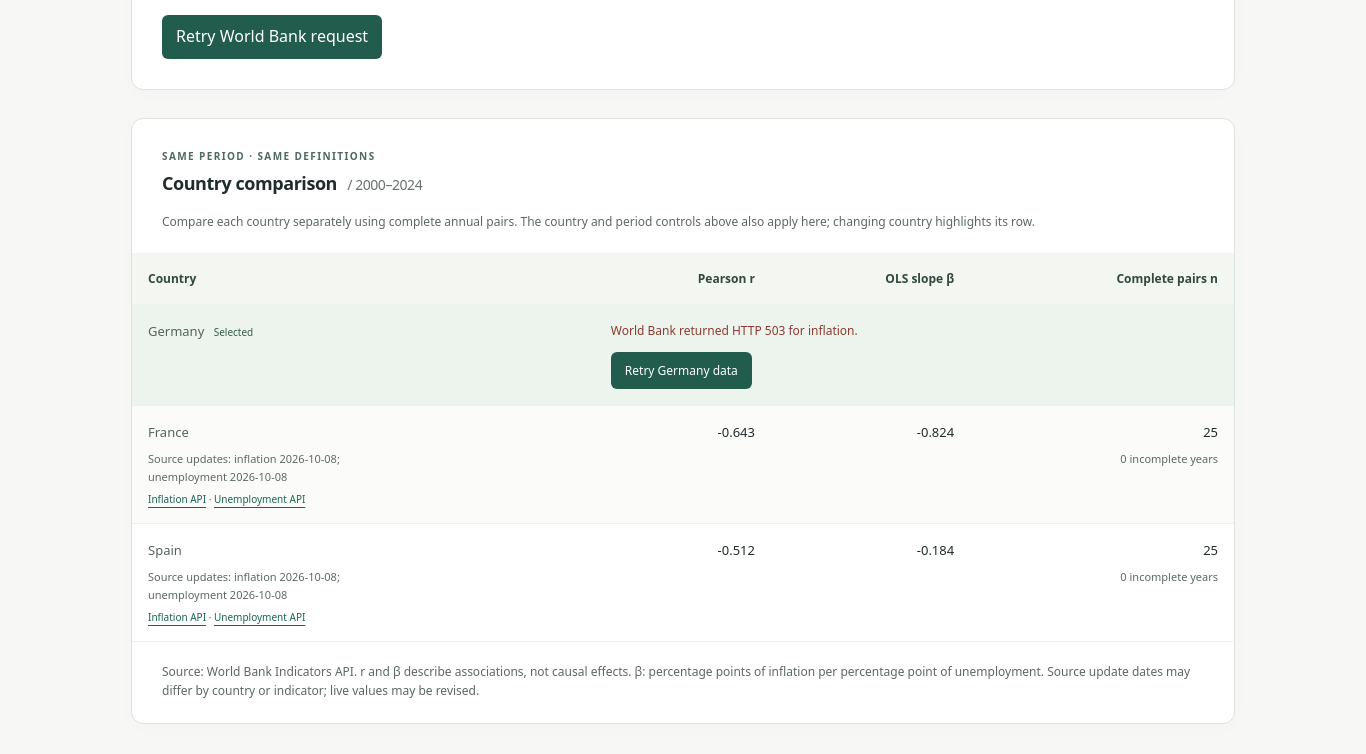
Test: comparison from the existing cached client › shares failed selected-country retries between comparison and main view
(page scrolled)
Expected: the cell with test id "comparison-n-ESP" is shown, [970,524,1234,642]
Expected: the row "Germany" shows "HTTP 503", [611,322,858,339]
Click the button "Retry Germany data" at (681,371), box [611,352,752,389]
(page scrolled)
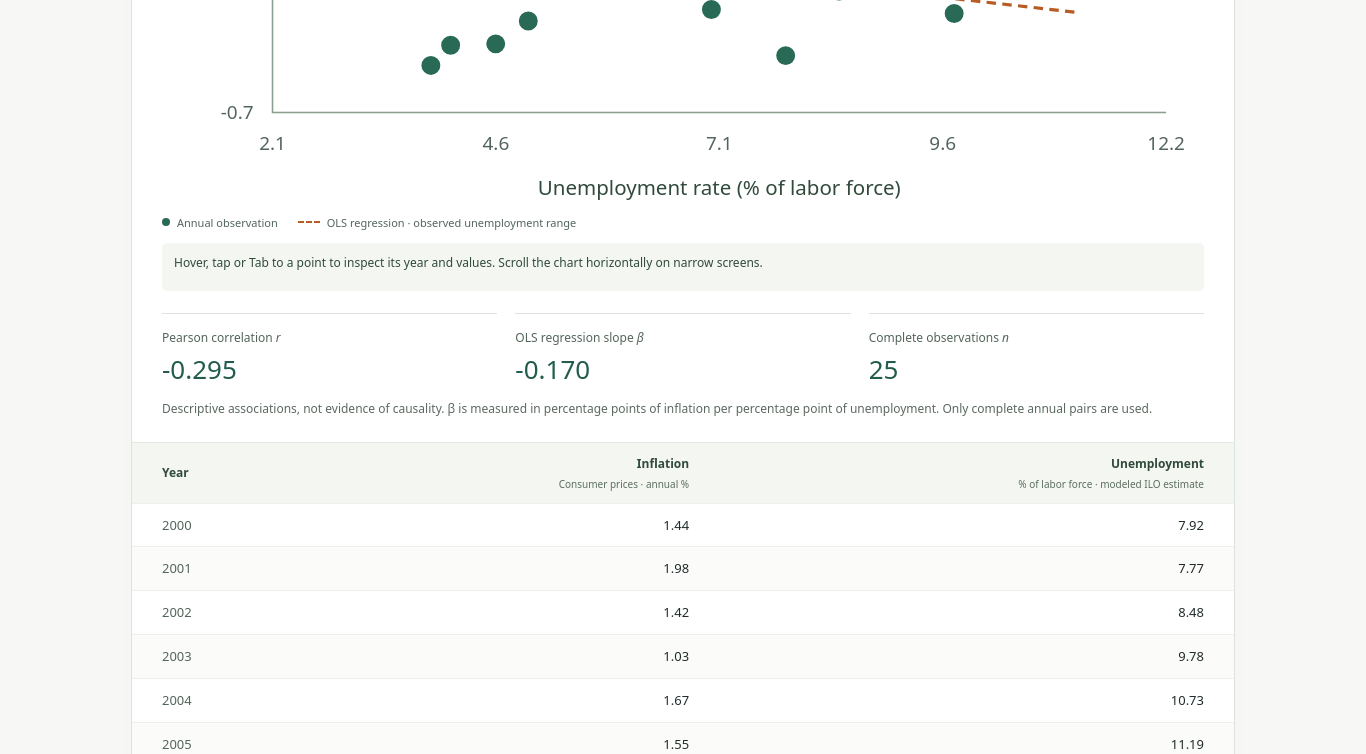
Expected: the text "-0.295" is shown, [162,352,237,388]
